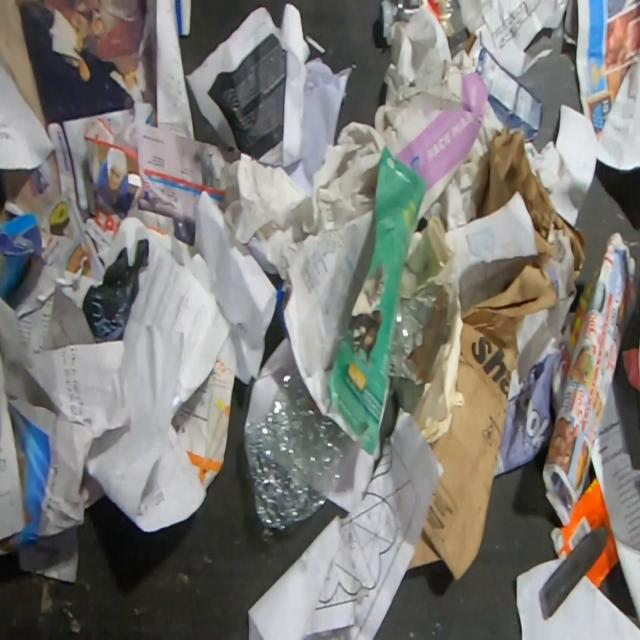cardboard: (170, 356, 236, 490), (464, 32, 544, 141)
rigid_plastic: (246, 365, 356, 529), (388, 278, 450, 384), (381, 0, 497, 38)
